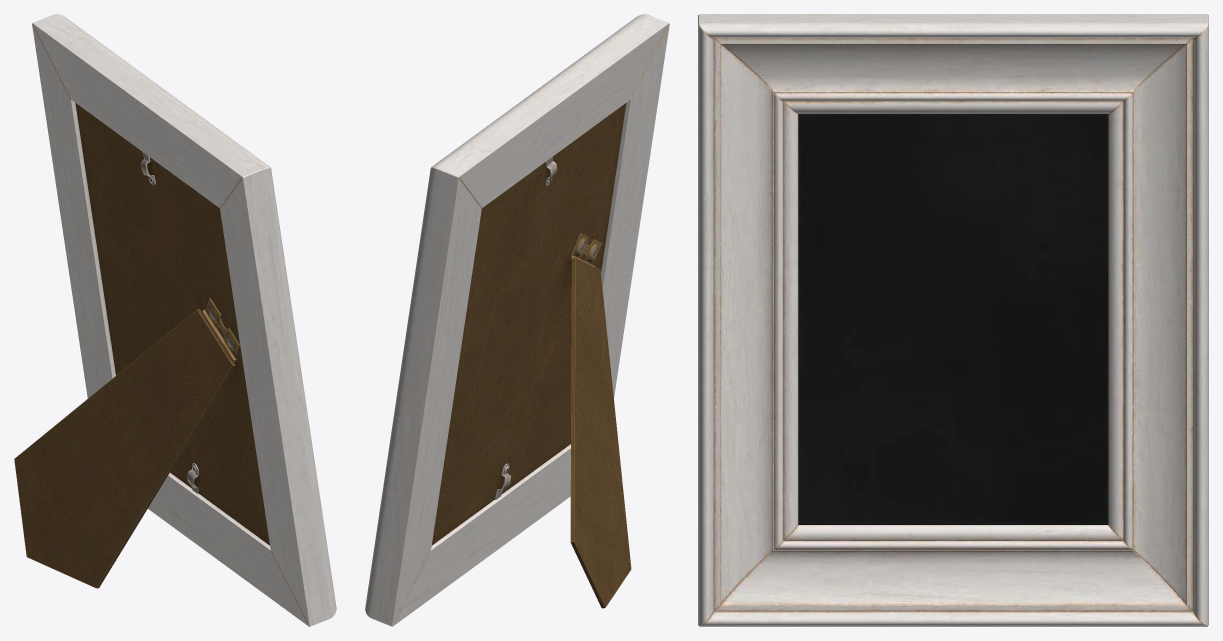
File: standing_picture_frame_02.glb
The picture shows the model from 3 angles, left to right: view 1: azimuth 30°, elevation 25°; view 2: azimuth 150°, elevation 25°; view 3: azimuth 270°, elevation 25°; orthographic projection. The views are drawn at different scales.
Visible parts, largest first — view 1: standing_picture_frame_02; view 2: standing_picture_frame_02; view 3: standing_picture_frame_02.
Part boxes in pixels (bbox=[...]): standing_picture_frame_02: bbox=[14, 14, 336, 626]; standing_picture_frame_02: bbox=[365, 14, 669, 626]; standing_picture_frame_02: bbox=[698, 14, 1208, 626].
Size of the model in its own units: 0.1023 by 0.2664 by 0.2169.
Materials: 3 (3 with a texture image).
